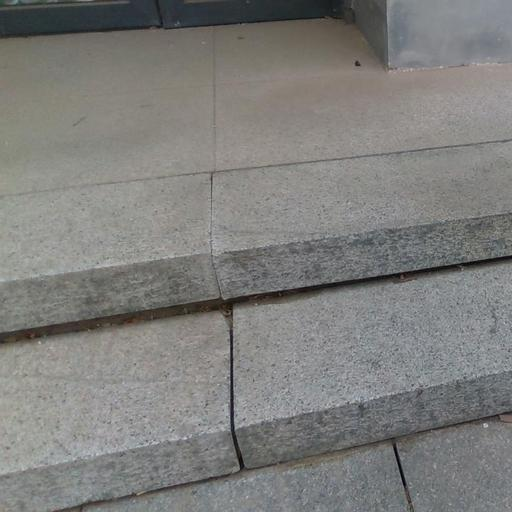stairs: (0, 30, 511, 511)
